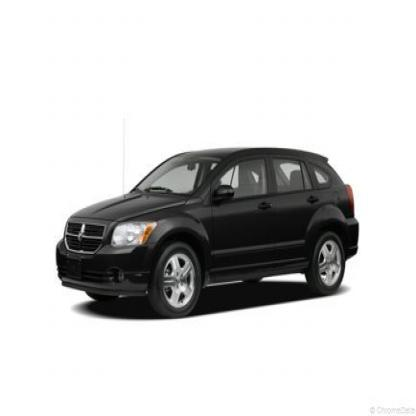Vehicle: (55, 145, 362, 323)
